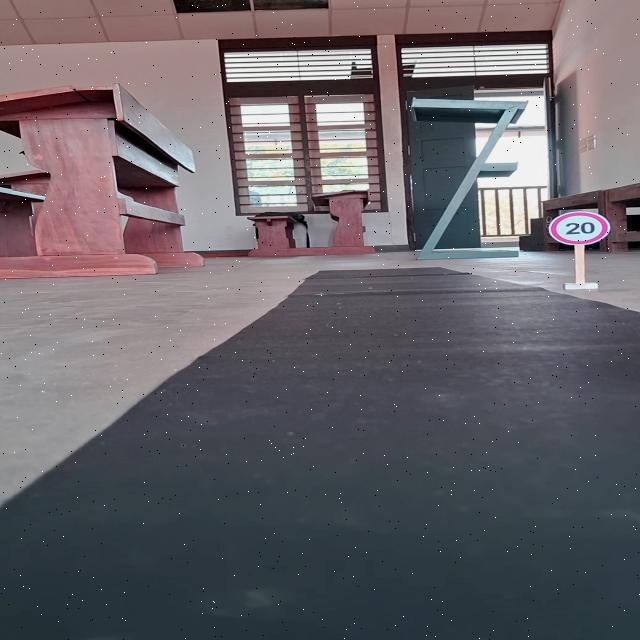Speed20: (542, 210, 612, 246)
